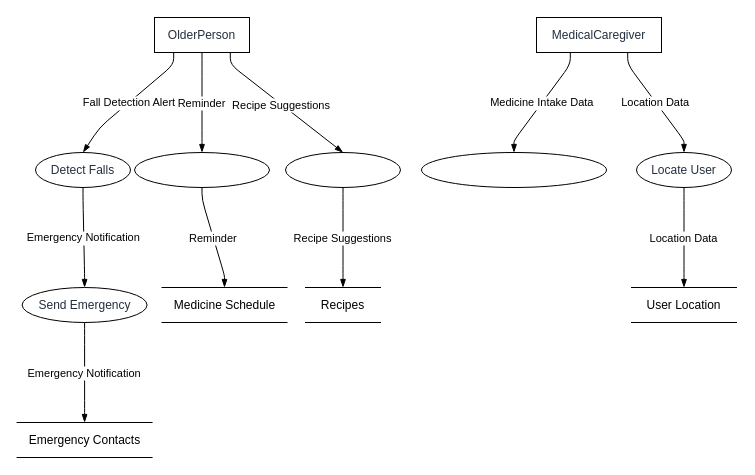
The diagram is 755 pixels wide and 475 high, and some of its shapes have lost their labels. Here are the shapes that lost their labels. From the top down, the centre of each, then its label:
At (202,170): "Medicine Reminder".
At (342,170): "Suggest Recipes".
At (513,170): "Medicine Intake Confirmation".
